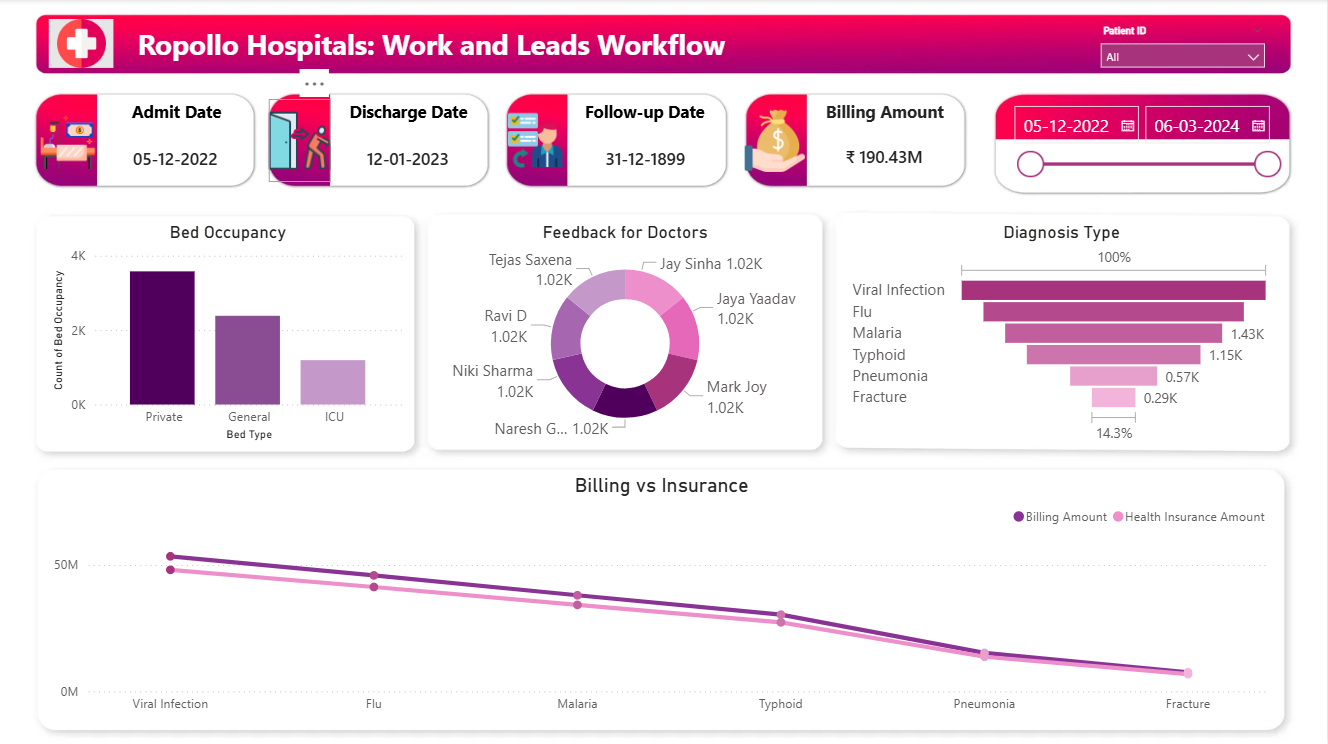

This screenshot's page, from the dashboard's own definition file:
{"tool":"powerbi","page":{"name":"Page 2","canvas":[1280,720],"ordinal":1},"visuals":[{"type":"image","box":[47.1,19.3,62.7,47.1],"z":0},{"type":"textbox","box":[127.9,20.5,603.2,47.1],"z":1000},{"type":"slicer","fields":{"Values":["Sheet1.Patient_ID"]},"box":[1052,20,179,48],"z":2000},{"type":"cardVisual","fields":{"Data":["Min(Sheet1.Admit_Date)"]},"box":[94.5,123.6,150.9,58.2],"z":3000},{"type":"textbox","box":[95.2,92.3,150,44.7],"z":4000},{"type":"cardVisual","fields":{"Data":["Min(Sheet1.Discharge_Date)"]},"box":[319.1,122.7,150.9,58.2],"z":5000},{"type":"textbox","box":[318.9,92.3,151.5,44.7],"z":6000},{"type":"cardVisual","fields":{"Data":["Min(Sheet1.Followup Date)"]},"box":[547.3,123.3,150.9,58.2],"z":7000},{"type":"textbox","box":[546.8,92.3,151.5,44.7],"z":8000},{"type":"cardVisual","fields":{"Data":["Sum(Sheet1.Billing Amount)"]},"box":[778.4,121.6,150.9,58.2],"z":9000},{"type":"textbox","box":[777.6,92.3,151.5,44.7],"z":10000},{"type":"slicer","fields":{"Values":["Sheet1.Admit_Date"]},"box":[966.7,92.3,278.5,88],"z":11000},{"type":"columnChart","title":"Bed Occupancy","fields":{"Category":["Sheet1.Bed_Occupancy"],"Y":["CountNonNull(Sheet1.Bed_Occupancy)"]},"box":[45.8,215,348.3,216.7],"z":12000},{"type":"donutChart","title":"Feedback for Doctors","fields":{"Category":["Sheet1.Doctor"],"Y":["CountNonNull(Sheet1.Doctor)"]},"box":[430,215,348,217],"z":13000},{"type":"funnel","title":"Diagnosis Type","fields":{"Category":["Sheet1.Diagnosis"],"Y":["CountNonNull(Sheet1.Diagnosis)"]},"box":[817.5,215,413.8,217.5],"z":14000},{"type":"lineChart","title":"Billing vs Insurance","fields":{"Y":["Sum(Sheet1.Billing Amount)","Sum(Sheet1.Health Insurance Amount)"],"Category":["Sheet1.Diagnosis"]},"box":[46.7,458.3,1183.3,240],"z":15000},{"type":"image","box":[35.5,96.4,60,80],"z":15001},{"type":"image","box":[259.1,96.4,60,80],"z":15002},{"type":"image","box":[487.3,96.4,60,80],"z":15003},{"type":"image","box":[718.2,96.4,60,80],"z":15004}]}

Visuals, with their boxes in screenshot pixels (x1, y1, x2, y2), scaled from the page's 1280x720 canvas onto the 1328x744 screenshot:
image: 49/20/114/69
textbox: 133/21/759/70
slicer - Sheet1.Patient_ID: 1091/21/1277/70
cardVisual - Min(Sheet1.Admit_Date): 98/128/255/188
textbox: 99/95/254/142
cardVisual - Min(Sheet1.Discharge_Date): 331/127/488/187
textbox: 331/95/488/142
cardVisual - Min(Sheet1.Followup Date): 568/127/724/188
textbox: 567/95/724/142
cardVisual - Sum(Sheet1.Billing Amount): 808/126/964/186
textbox: 807/95/964/142
slicer - Sheet1.Admit_Date: 1003/95/1292/186
"Bed Occupancy" columnChart: 48/222/409/446
"Feedback for Doctors" donutChart: 446/222/807/446
"Diagnosis Type" funnel: 848/222/1277/447
"Billing vs Insurance" lineChart: 48/474/1276/722
image: 37/100/99/182
image: 269/100/331/182
image: 506/100/568/182
image: 745/100/807/182
